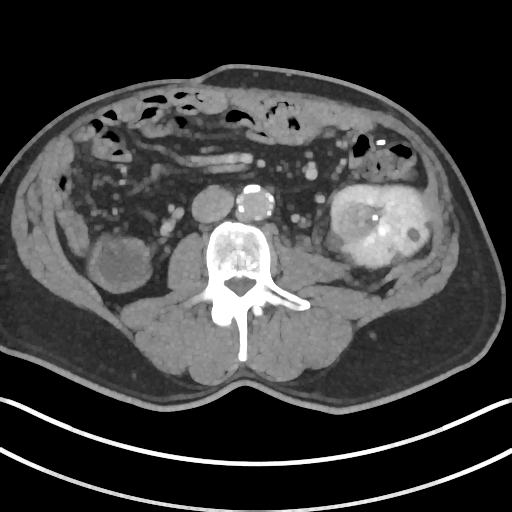Lesion: (332, 202, 382, 242)
